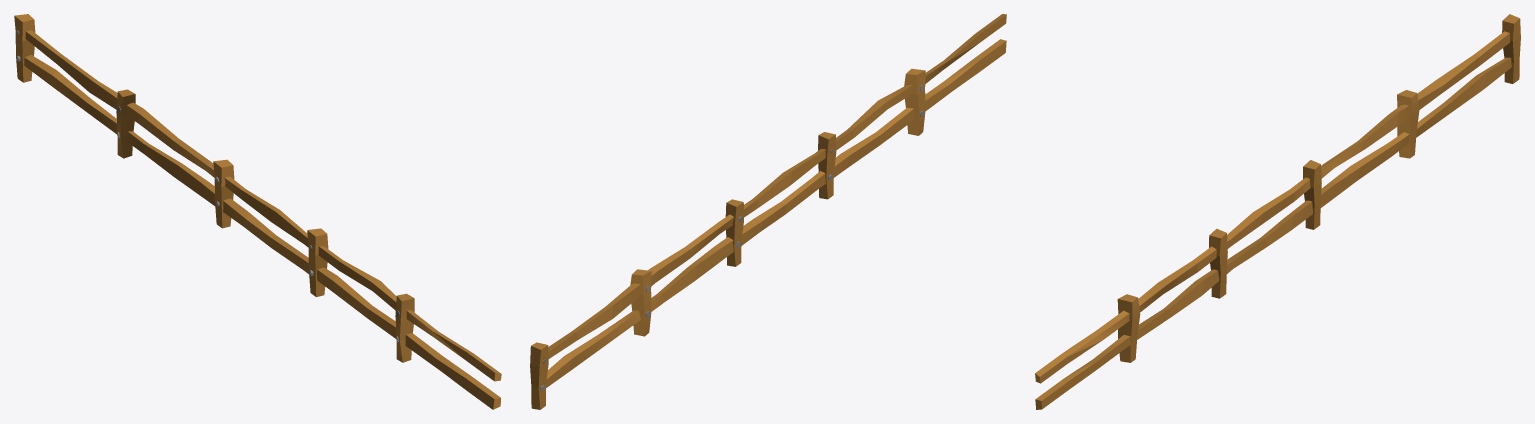
Rendered from Barrière_Milieu.fbx.
3 views of the same model, side by side, from view 1: azimuth 30°, elevation 25°; view 2: azimuth 150°, elevation 25°; view 3: azimuth 330°, elevation 25° (orthographic).
Visible parts, largest first — view 1: Barrière_Milieu; view 2: Barrière_Milieu; view 3: Barrière_Milieu.
Part boxes in pixels (<box>): Barrière_Milieu: <box>14,14,501,409</box>; Barrière_Milieu: <box>530,14,1006,409</box>; Barrière_Milieu: <box>1035,14,1520,409</box>.
Size of the model in its own units: 38.1 by 143 by 1988.
Materials: 1 (1 with a texture image).
